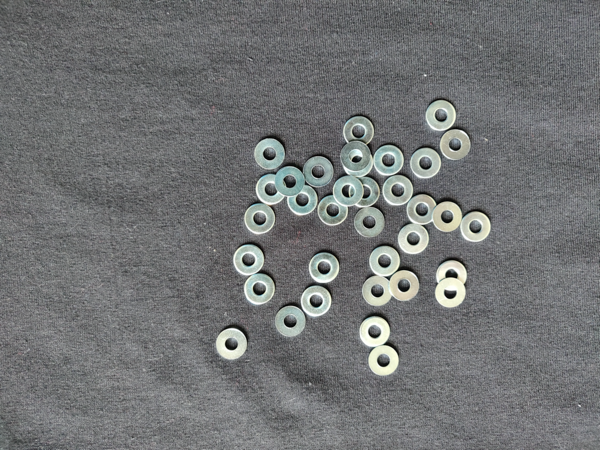circle: (373, 144, 405, 177), (440, 129, 472, 161), (410, 147, 442, 179), (254, 138, 286, 170), (303, 156, 335, 188), (398, 223, 430, 255), (232, 245, 264, 277), (216, 329, 248, 361), (426, 99, 457, 132), (343, 116, 375, 147), (461, 211, 492, 243), (407, 193, 438, 225), (369, 345, 400, 377), (309, 252, 340, 284), (244, 274, 276, 305), (344, 145, 374, 178), (318, 195, 349, 226), (435, 278, 466, 309), (301, 286, 332, 317), (245, 203, 275, 235), (370, 246, 400, 278), (256, 174, 286, 205), (287, 186, 318, 216), (354, 207, 384, 238), (333, 176, 363, 207), (437, 261, 467, 292), (389, 271, 419, 302), (360, 317, 390, 348), (275, 306, 305, 337), (275, 167, 305, 197), (341, 142, 371, 172), (383, 176, 413, 206), (350, 177, 379, 208), (433, 202, 462, 233), (363, 277, 393, 306)
